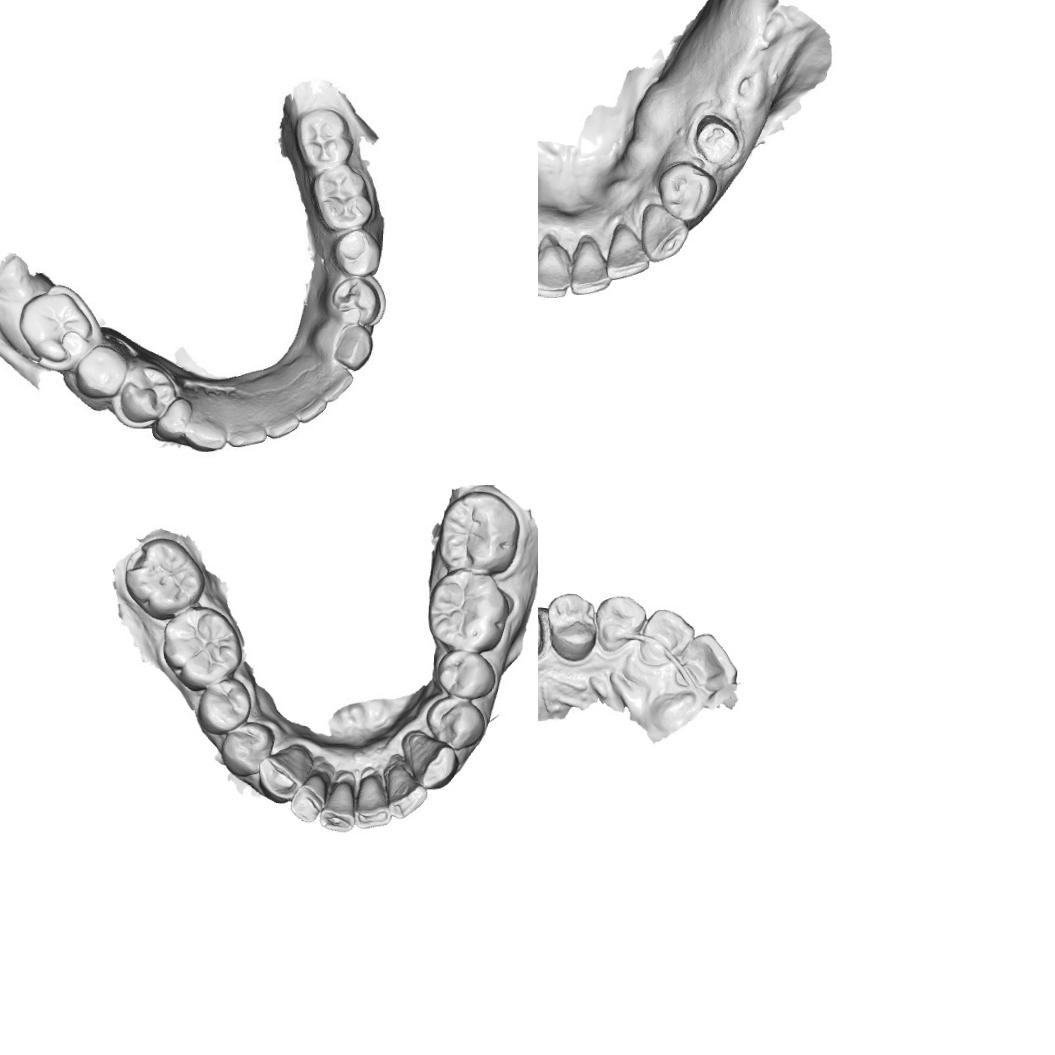canine: (256, 742, 314, 807), (401, 730, 461, 792), (637, 200, 690, 266), (594, 594, 648, 654), (324, 326, 384, 368), (180, 406, 226, 456)
crown: (692, 111, 744, 170), (538, 605, 548, 659)
incisor: (676, 632, 739, 694), (639, 607, 696, 666), (383, 758, 429, 822), (566, 234, 612, 297), (255, 390, 308, 441), (605, 222, 650, 282), (350, 774, 394, 832), (317, 778, 358, 835), (287, 771, 328, 825), (538, 236, 572, 299), (286, 382, 330, 429), (225, 404, 266, 452), (318, 365, 355, 404)
inlay: (334, 282, 372, 324)
molar: (158, 604, 246, 694), (122, 535, 209, 624), (425, 566, 512, 654), (435, 485, 515, 580), (17, 286, 95, 366), (294, 104, 352, 173), (312, 167, 374, 231)
premolar: (656, 160, 718, 226), (422, 694, 488, 754), (545, 591, 598, 663), (195, 674, 254, 736), (218, 718, 276, 780), (434, 648, 499, 700), (119, 366, 173, 426), (75, 347, 130, 405), (334, 227, 378, 271)
